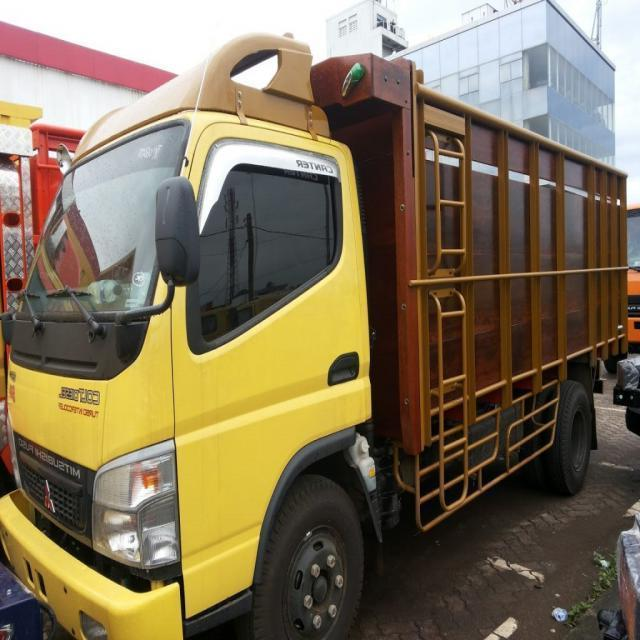truck: (0, 27, 626, 640)
